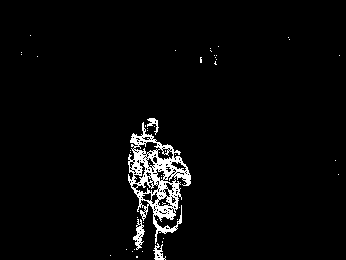person: (149, 144, 192, 260), (127, 115, 161, 255)
